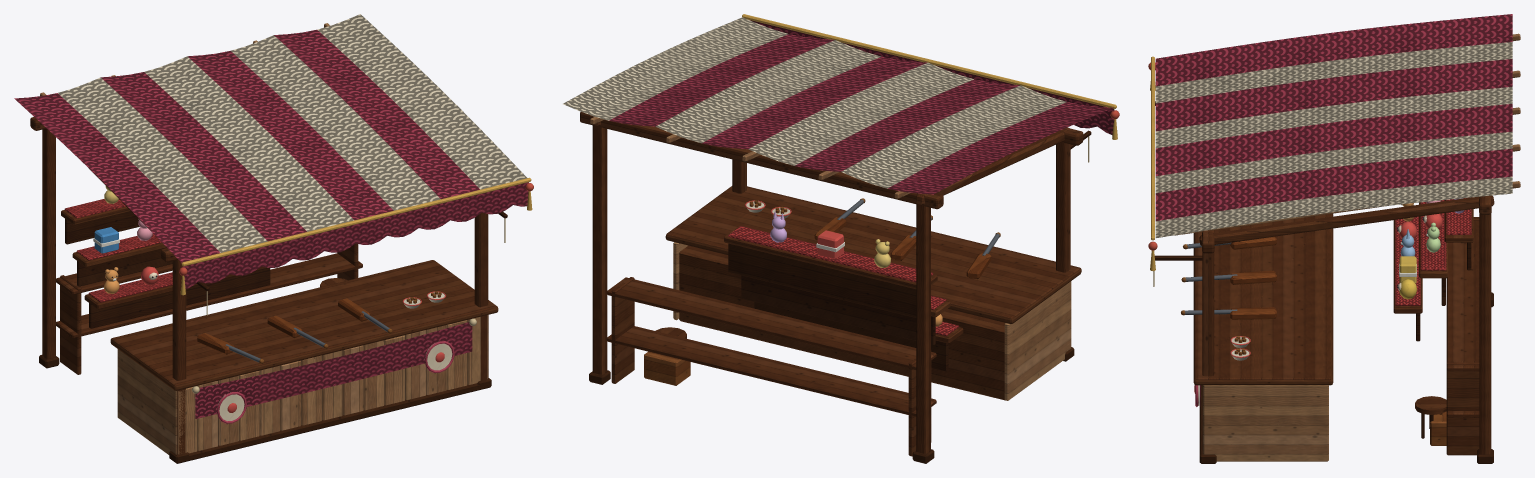
The model's file is env_stall_shoot.glb.
3 renders of one model, left to right at view 1: azimuth 30°, elevation 25°; view 2: azimuth 150°, elevation 25°; view 3: azimuth 270°, elevation 25°, orthographic. The views are drawn at different scales.
Visible parts, largest first — view 1: env_stall_shoot; view 2: env_stall_shoot; view 3: env_stall_shoot.
Part boxes in pixels (x1=…): env_stall_shoot: x1=14, y1=14, x2=533, y2=463; env_stall_shoot: x1=563, y1=14, x2=1119, y2=463; env_stall_shoot: x1=1148, y1=14, x2=1520, y2=463.
Size of the model in its own units: 5.1 by 3.62 by 4.38.
Materials: 3 (3 with a texture image).
